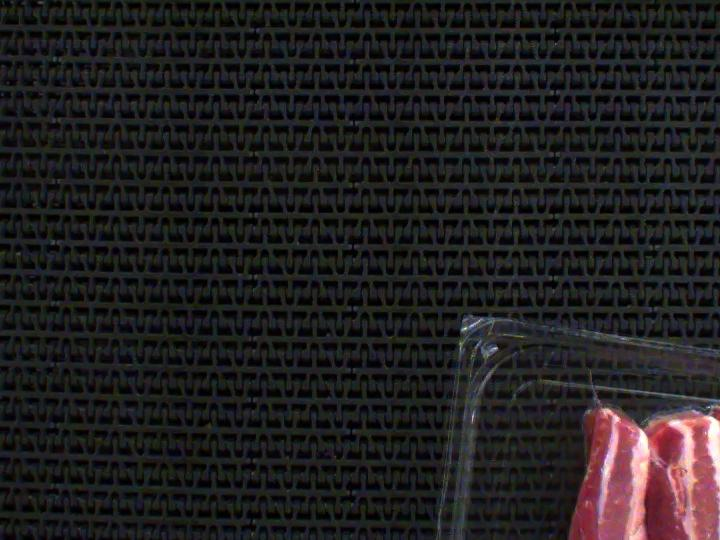packaging-error: (581, 367, 616, 418)
unsealed: (650, 392, 720, 438)
